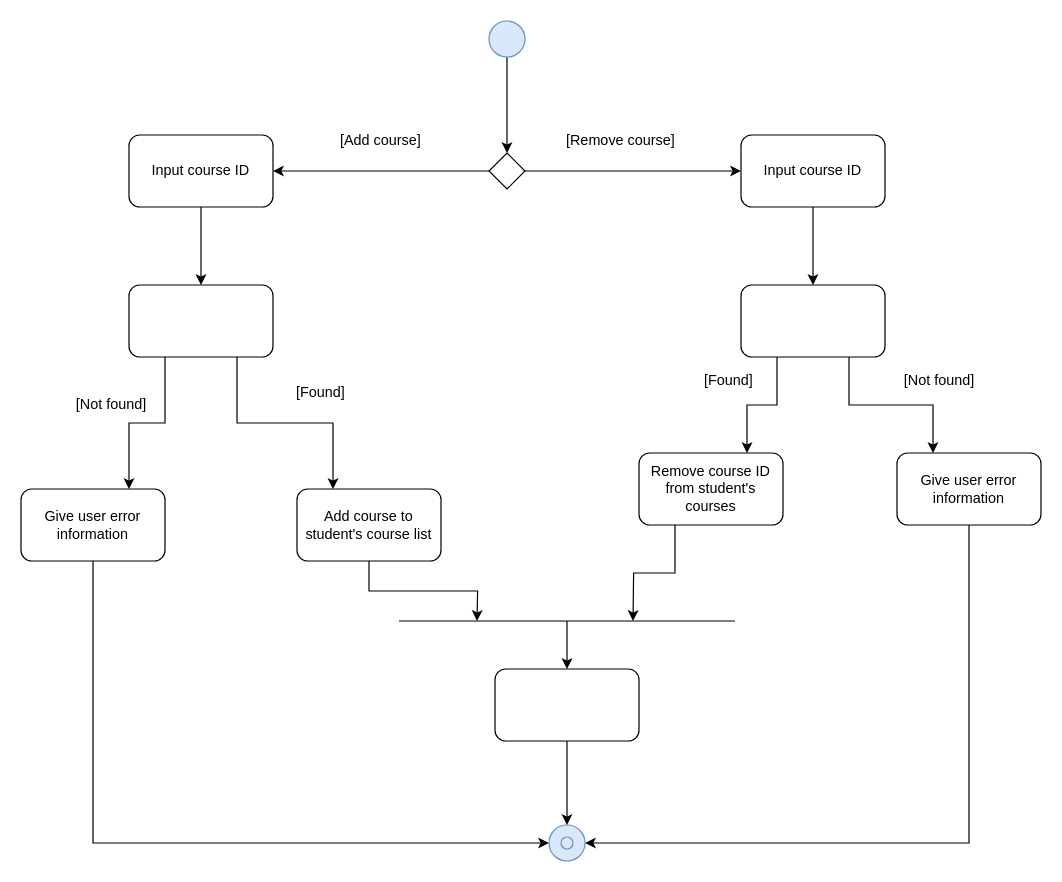
Some shapes in this 1062 by 882 pixel diagram are drawn without their labels. The box of each missing label's shape, as (x1, y1, x2, y2) in pixels:
Check for course in student's courses: (740, 284, 885, 357)
Find course in course table: (128, 284, 273, 357)
Give confirmation to user: (494, 668, 639, 741)
